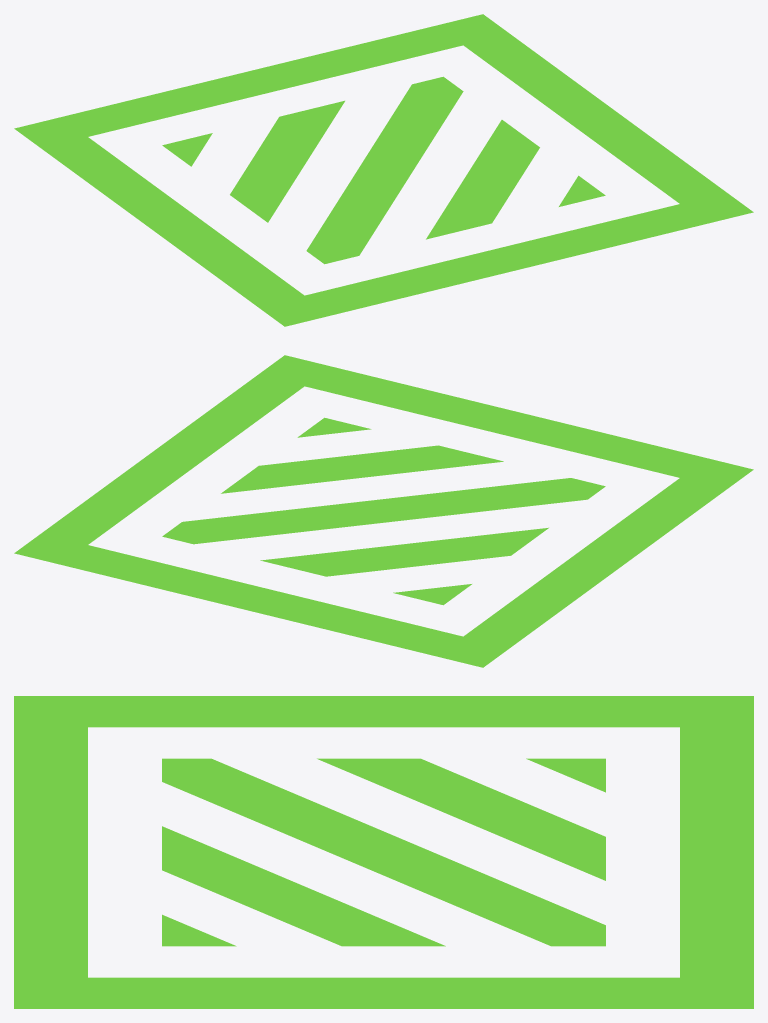
The model's file is Button_GreenBoxDiagonal.glb.
3 views of the same model, one above another, from view 1: azimuth 30°, elevation 25°; view 2: azimuth 150°, elevation 25°; view 3: azimuth 270°, elevation 25° (orthographic). The views are drawn at different scales.
Visible parts, largest first — view 1: indicator-special-area.005; view 2: indicator-special-area.005; view 3: indicator-special-area.005.
Boxes of the visible parts, x1,y1,x2,y2 form: indicator-special-area.005: [14, 14, 753, 326]; indicator-special-area.005: [14, 355, 753, 667]; indicator-special-area.005: [14, 696, 753, 1008].
Size of the model in its own units: 1 by 0 by 1.
